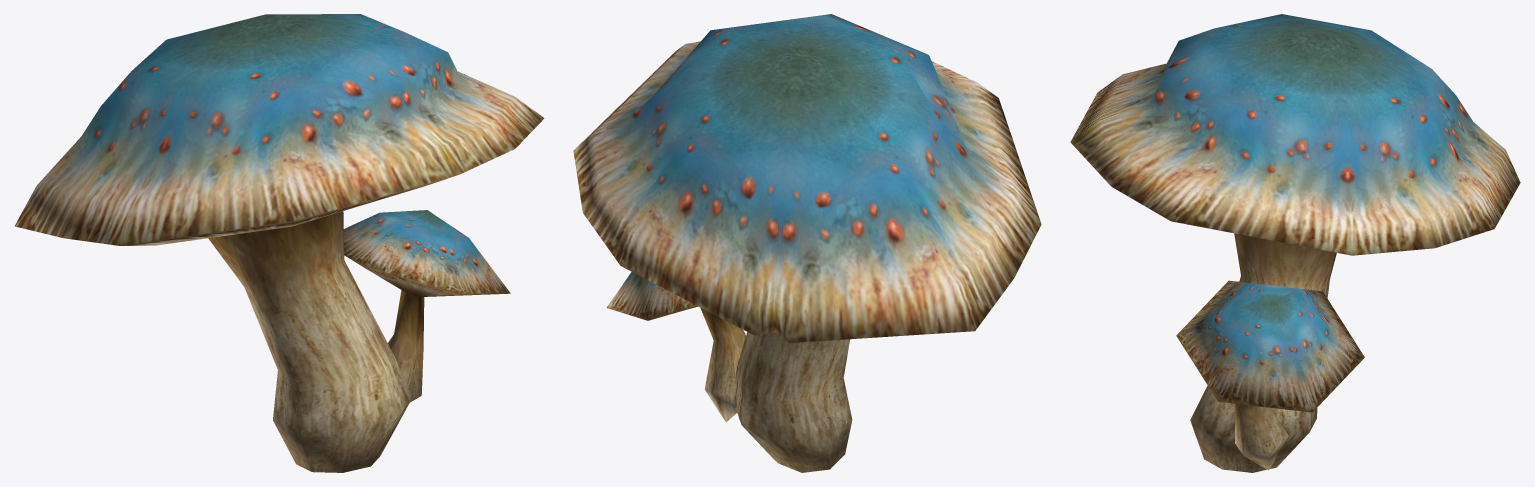
Rendered from dumogu01.FBX.
The picture shows the model from 3 angles, left to right: view 1: azimuth 30°, elevation 25°; view 2: azimuth 150°, elevation 25°; view 3: azimuth 270°, elevation 25°; orthographic projection. The views are drawn at different scales.
Parts seen in each view (by area): view 1: 对象01; view 2: 对象01; view 3: 对象01.
Part boxes in pixels (x1,y1,x2,y2): 对象01: (15, 14, 544, 472); 对象01: (573, 14, 1041, 472); 对象01: (1070, 14, 1520, 472).
Bounding box in the file's own units: 78.45 × 77.06 × 75.07.
